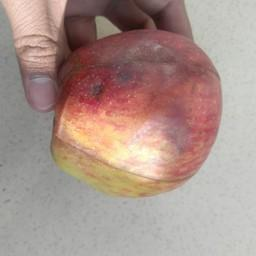Bad_apple: (48, 23, 224, 200)
